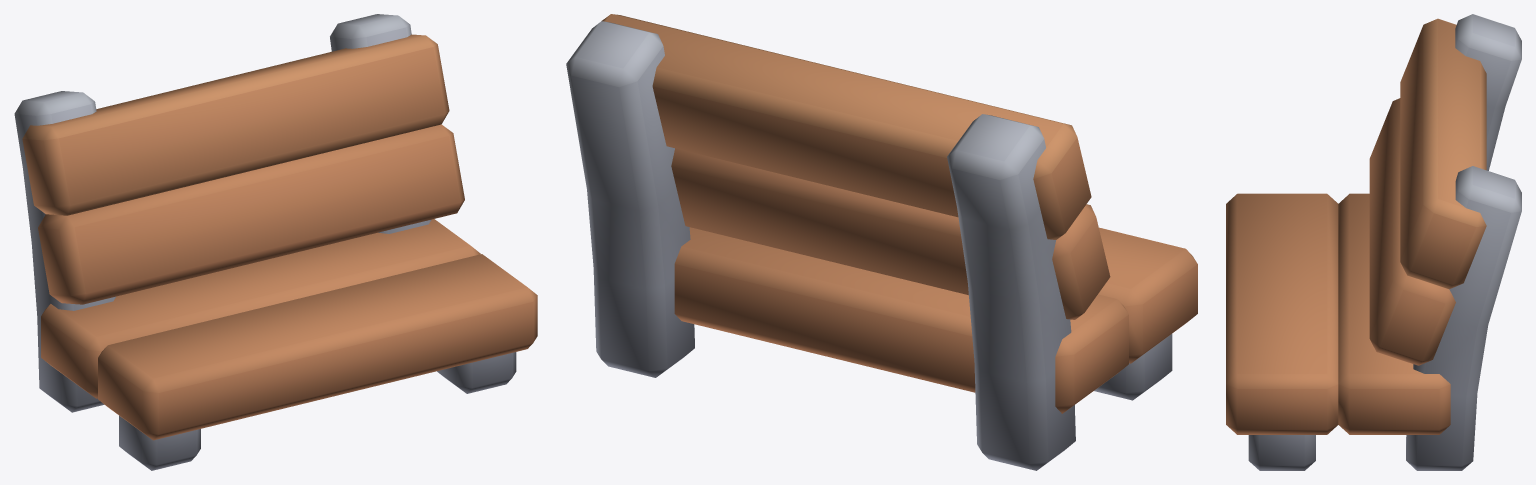
The model's file is Bench.glb.
The picture shows the model from 3 angles, left to right: view 1: azimuth 30°, elevation 25°; view 2: azimuth 150°, elevation 25°; view 3: azimuth 270°, elevation 25°; orthographic projection. The views are drawn at different scales.
Visible parts, largest first — view 1: bench; view 2: bench; view 3: bench.
Boxes of the visible parts, box(x1,y1,x2,y2) form: bench: box(14, 14, 537, 470); bench: box(566, 14, 1197, 470); bench: box(1226, 14, 1521, 470).
Size of the model in its own units: 2 by 1.41 by 1.32.
Materials: 1 (1 with a texture image).
